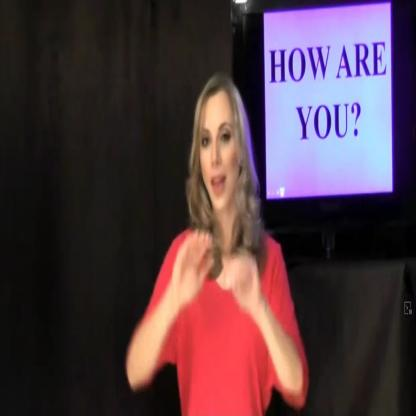HowAreYou: (162, 225, 264, 341)
